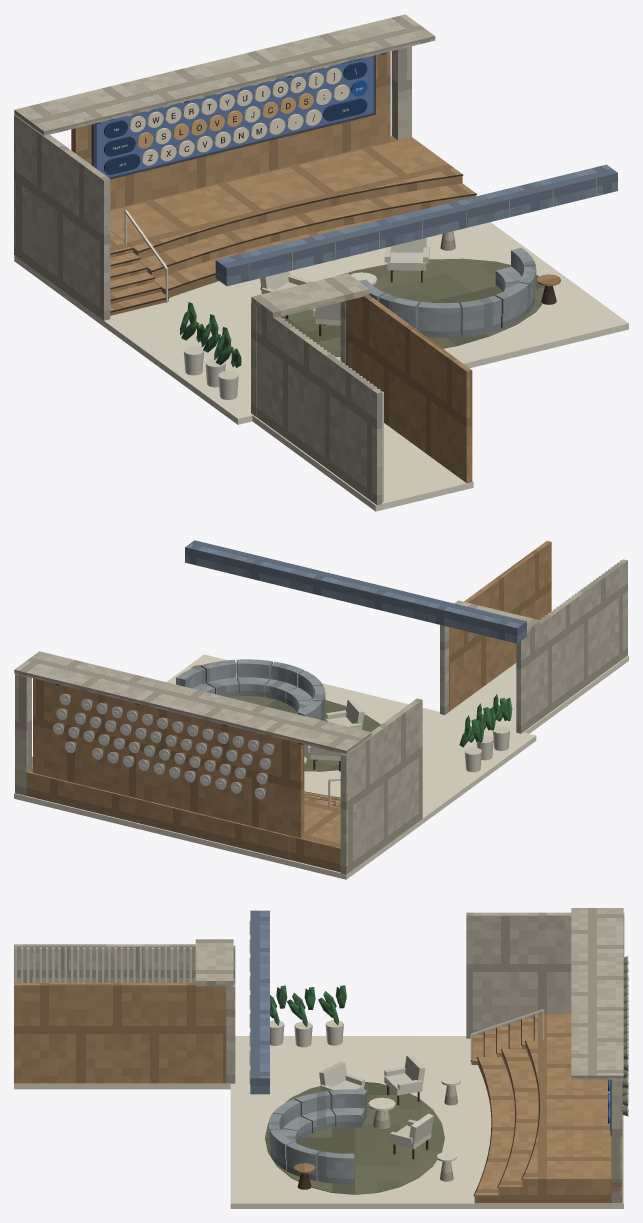
File: Observed-Keyboard-Wall-Lounge.glb
3 views of the same model, one above another, from view 1: azimuth 30°, elevation 25°; view 2: azimuth 150°, elevation 25°; view 3: azimuth 270°, elevation 25° (orthographic). The views are drawn at different scales.
Parts seen in each view (by area): view 1: Curved_timber_seating_tiers__Lounge warm timber, Lounge_floor, Keyboard_approach_corridor__Lounge plaster, Lounge_structure__Lounge plaster, Rear_ceiling_strip, Approach_right_wall, Blue_grey_soffit_at_lounge, Keyboard_timber_wall, Blue_keyboard_backing, Oval_lounge_rug, Curved_modular_sofa__Lounge grey sofa textile, Approach_floor (+6 smaller); view 2: Keyboard_timber_wall, Keyboard_approach_corridor__Lounge plaster, Lounge_structure__Lounge plaster, Lounge_floor, Rear_ceiling_strip, Curved_timber_seating_tiers__Lounge warm timber, Blue_grey_soffit_at_lounge, Approach_right_wall, Curved_modular_sofa__Lounge grey sofa textile, Approach_floor, Oval_lounge_rug, Lounge_furniture__Lounge foliage (+2 smaller); view 3: Lounge_floor, Approach_right_wall, Curved_timber_seating_tiers__Lounge warm timber, Lounge_structure__Lounge plaster, Rear_ceiling_strip, Keyboard_approach_corridor__Lounge plaster, Oval_lounge_rug, Curved_modular_sofa__Lounge grey sofa textile, Blue_grey_soffit_at_lounge, Keyboard_approach_corridor__Lounge ivory upholstery, Upholstered_armchair__Lounge ivory upholstery (×3), Approach_floor (+5 smaller).
Boxes of the visible parts, x1,y1,x2,y2 form: Curved_timber_seating_tiers__Lounge warm timber: [110, 136, 476, 315]; Lounge_floor: [14, 222, 628, 424]; Keyboard_approach_corridor__Lounge plaster: [248, 179, 596, 505]; Lounge_structure__Lounge plaster: [14, 46, 411, 320]; Rear_ceiling_strip: [14, 14, 435, 135]; Approach_right_wall: [346, 294, 472, 483]; Blue_grey_soffit_at_lounge: [215, 164, 617, 286]; Keyboard_timber_wall: [71, 51, 390, 209]; Blue_keyboard_backing: [96, 55, 373, 177]; Oval_lounge_rug: [281, 258, 544, 356]; Curved_modular_sofa__Lounge grey sofa textile: [358, 247, 536, 337]; Approach_floor: [252, 415, 473, 511]; Keyboard_timber_wall: [33, 678, 304, 838]; Keyboard_approach_corridor__Lounge plaster: [440, 559, 627, 733]; Lounge_structure__Lounge plaster: [15, 674, 422, 874]; Lounge_floor: [14, 654, 536, 879]; Rear_ceiling_strip: [14, 651, 371, 754]; Curved_timber_seating_tiers__Lounge warm timber: [26, 756, 340, 872]; Blue_grey_soffit_at_lounge: [185, 540, 526, 643]; Approach_right_wall: [449, 541, 551, 711]; Curved_modular_sofa__Lounge grey sofa textile: [176, 659, 325, 720]; Approach_floor: [447, 655, 628, 733]; Oval_lounge_rug: [229, 692, 380, 771]; Lounge_furniture__Lounge foliage: [459, 694, 512, 747]; Lounge_floor: [230, 1036, 623, 1208]; Approach_right_wall: [14, 983, 230, 1083]; Curved_timber_seating_tiers__Lounge warm timber: [472, 1014, 622, 1203]; Lounge_structure__Lounge plaster: [466, 912, 624, 1203]; Rear_ceiling_strip: [571, 908, 623, 1079]; Keyboard_approach_corridor__Lounge plaster: [14, 921, 250, 1083]; Oval_lounge_rug: [265, 1082, 444, 1194]; Curved_modular_sofa__Lounge grey sofa textile: [268, 1089, 366, 1184]; Blue_grey_soffit_at_lounge: [250, 910, 269, 1094]; Keyboard_approach_corridor__Lounge ivory upholstery: [14, 947, 191, 982]; Upholstered_armchair__Lounge ivory upholstery (×3): [319, 1055, 433, 1149]; Approach_floor: [14, 1083, 230, 1089].
Bounding box in the file's own units: 10.8 × 4 × 16.74.
Materials: 76 (15 with a texture image).
